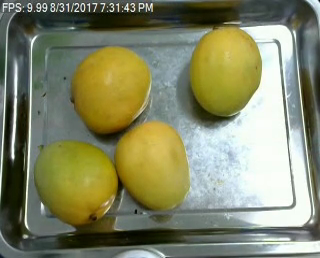Mango: (72, 46, 152, 134), (34, 142, 118, 223), (114, 122, 190, 210), (188, 27, 261, 117)
